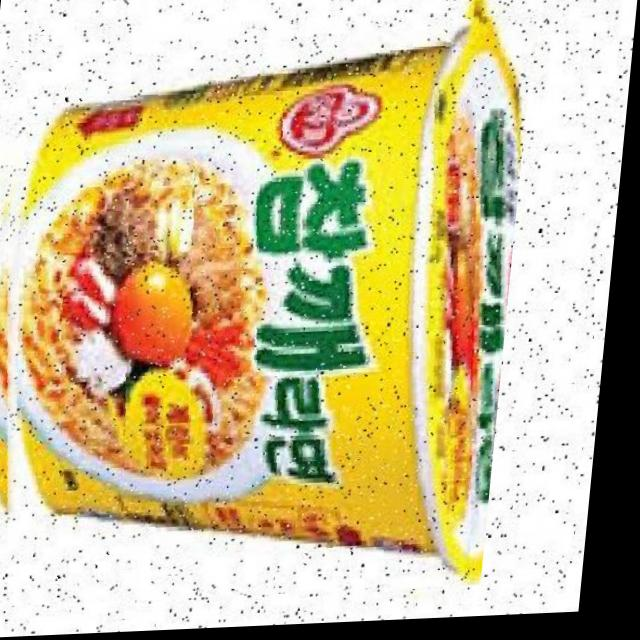Miscellaneous: (0, 14, 535, 608)
